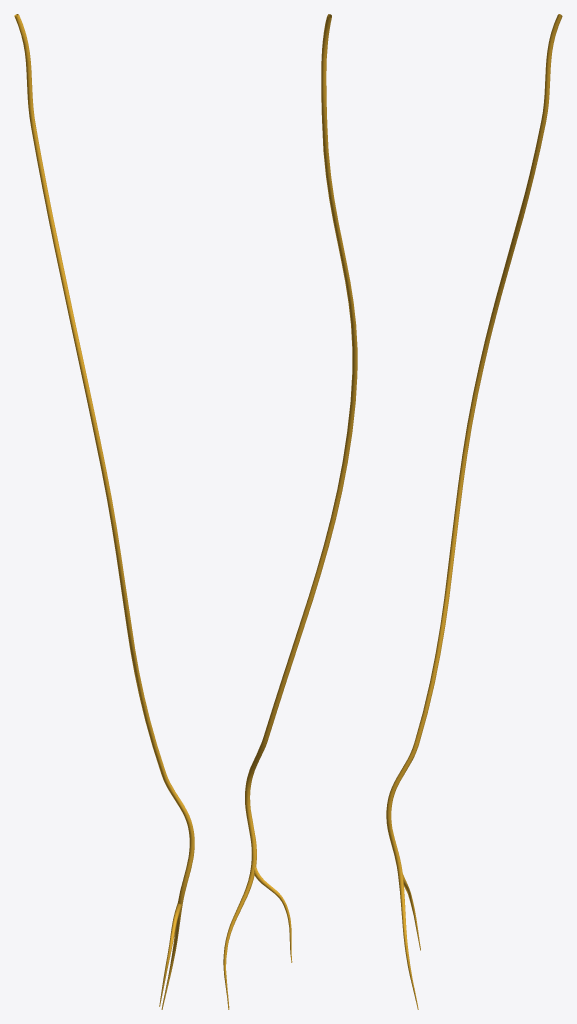
Rendered from nervoso-femoral-branch-of-genitofemoral-nerve-r.glb.
3 renders of one model, left to right at view 1: azimuth 90°, elevation 25°; view 2: azimuth 210°, elevation 25°; view 3: azimuth 270°, elevation 25°, orthographic. The views are drawn at different scales.
Parts seen in each view (by area): view 1: Femoral branch of genitofemoral nerve.r; view 2: Femoral branch of genitofemoral nerve.r; view 3: Femoral branch of genitofemoral nerve.r.
Boxes of the visible parts, x1,y1,x2,y2 form: Femoral branch of genitofemoral nerve.r: (14,14,194,1009); Femoral branch of genitofemoral nerve.r: (223,14,357,1009); Femoral branch of genitofemoral nerve.r: (386,14,562,1009).
Size of the model in its own units: 0.0212 by 0.2172 by 0.0353.
